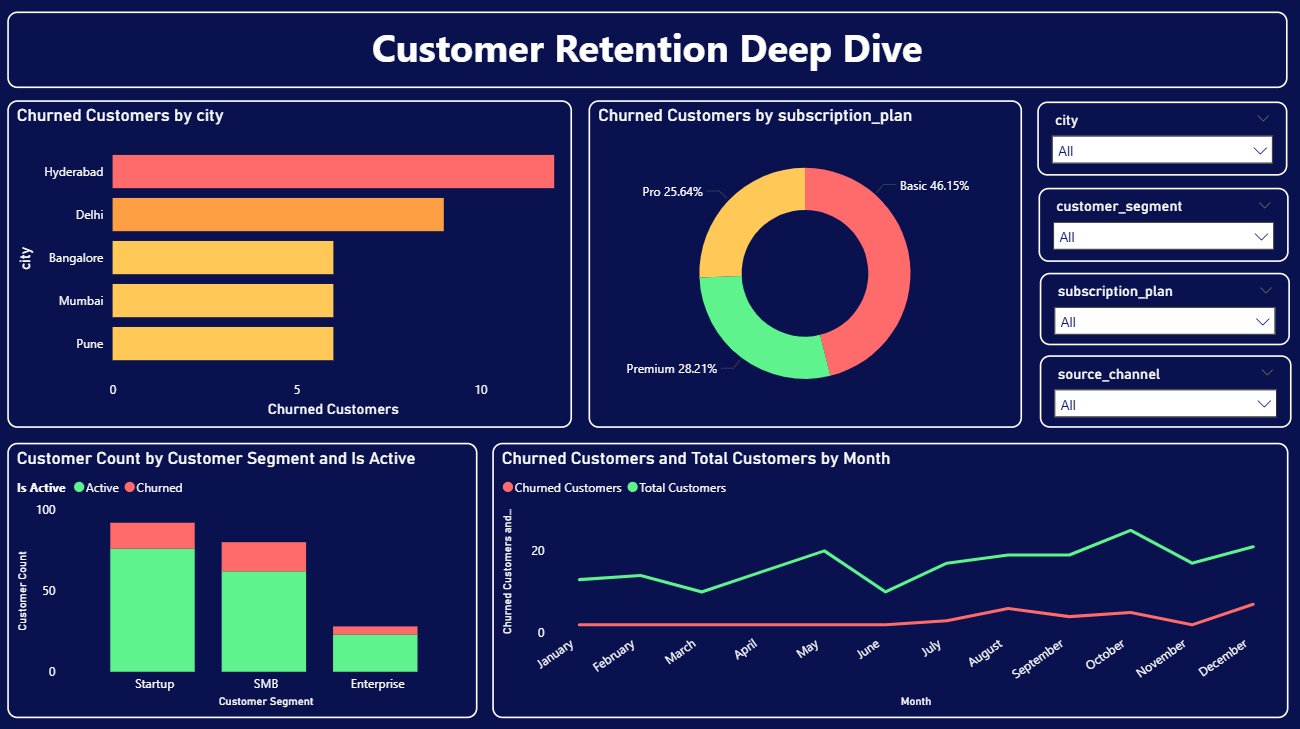

The page's visual inventory and layout, read from the dashboard file:
{"tool":"powerbi","page":{"name":"Customer Retention","canvas":[1280,720],"ordinal":1},"visuals":[{"type":"textbox","box":[11,12.3,1257,75.5],"z":0},{"type":"clusteredBarChart","fields":{"Category":["customers.city"],"Y":["transactions.Churned Customers"]},"box":[11.4,100,554.3,321.4],"z":1000},{"type":"donutChart","fields":{"Category":["customers.subscription_plan"],"Y":["transactions.Churned Customers"]},"box":[581.4,100,425.7,321.4],"z":2000},{"type":"columnChart","fields":{"Y":["customers.customer_count"],"Category":["customers.customer_segment"],"Series":["customers.is_active"]},"box":[11.4,435.7,461.4,270],"z":3000},{"type":"lineChart","fields":{"Y":["transactions.Churned Customers","customers.total_customer"],"Category":["customers.signup_date.Variation.Date Hierarchy.Month"]},"box":[487.1,435.7,781.4,270],"z":4000},{"type":"slicer","fields":{"Values":["customers.city"]},"box":[1022.7,100.3,245.7,72.7],"z":5000},{"type":"slicer","fields":{"Values":["customers.customer_segment"]},"box":[1022.9,185.7,245.7,72.9],"z":6000},{"type":"slicer","fields":{"Values":["customers.subscription_plan"]},"box":[1024.3,268.6,245.7,71.4],"z":7000},{"type":"slicer","fields":{"Values":["customers.source_channel"]},"box":[1024.3,350,247.1,71.4],"z":8000}]}

Visuals, with their boxes in screenshot pixels (x1, y1, x2, y2), scaled from the page's 1280x720 canvas onto the 1300x729 screenshot:
textbox: rect(11, 12, 1288, 89)
clusteredBarChart - customers.city x transactions.Churned Customers: rect(12, 101, 575, 427)
donutChart - customers.subscription_plan x transactions.Churned Customers: rect(590, 101, 1023, 427)
columnChart - customers.customer_count x customers.customer_segment: rect(12, 441, 480, 715)
lineChart - transactions.Churned Customers x customers.total_customer: rect(495, 441, 1288, 715)
slicer - customers.city: rect(1039, 102, 1288, 175)
slicer - customers.customer_segment: rect(1039, 188, 1288, 262)
slicer - customers.subscription_plan: rect(1040, 272, 1290, 344)
slicer - customers.source_channel: rect(1040, 354, 1291, 427)
